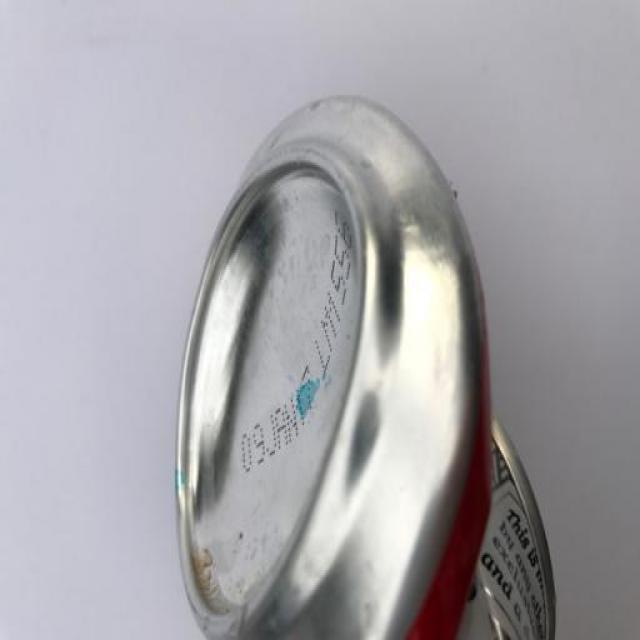metel: (168, 87, 559, 640)
